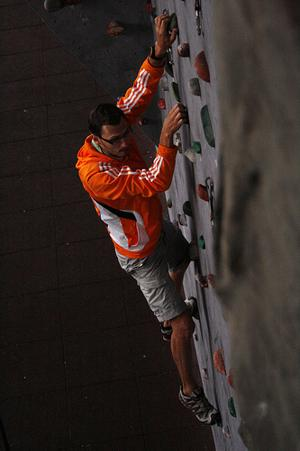person: (75, 12, 221, 434)
